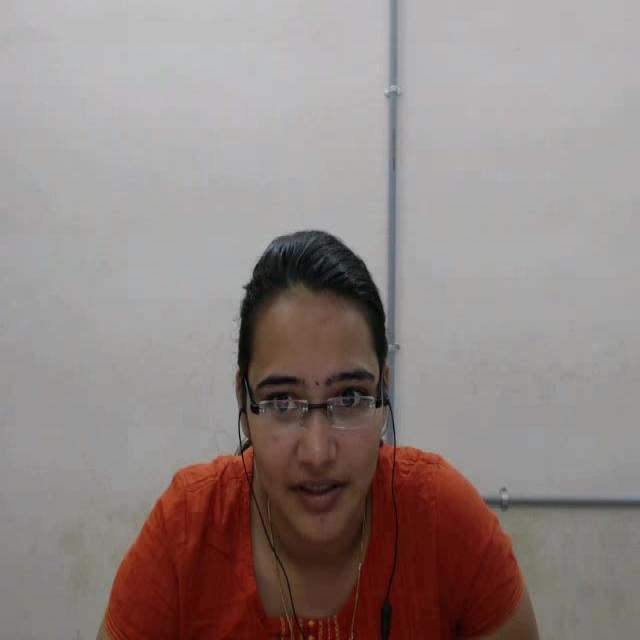Engaged: (208, 225, 441, 562)
